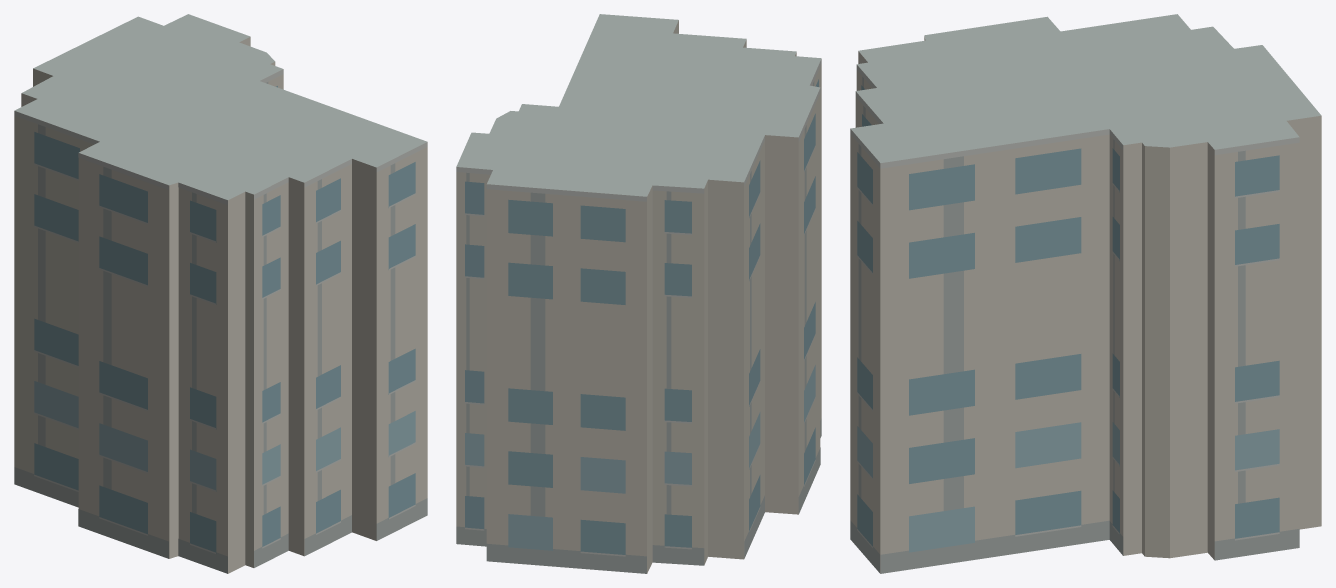
File: survey-upis-32620172.glb
3 renders of one model, left to right at view 1: azimuth 30°, elevation 25°; view 2: azimuth 150°, elevation 25°; view 3: azimuth 270°, elevation 25°, orthographic. The views are drawn at different scales.
Parts seen in each view (by area): view 1: survey-upis-32620172.tmp; view 2: survey-upis-32620172.tmp; view 3: survey-upis-32620172.tmp.
Part boxes in pixels (x1,y1,x2,y2): survey-upis-32620172.tmp: (14,14,427,573); survey-upis-32620172.tmp: (456,14,821,573); survey-upis-32620172.tmp: (850,14,1321,573).
Size of the model in its own units: 14.27 by 18.3 by 19.04.
